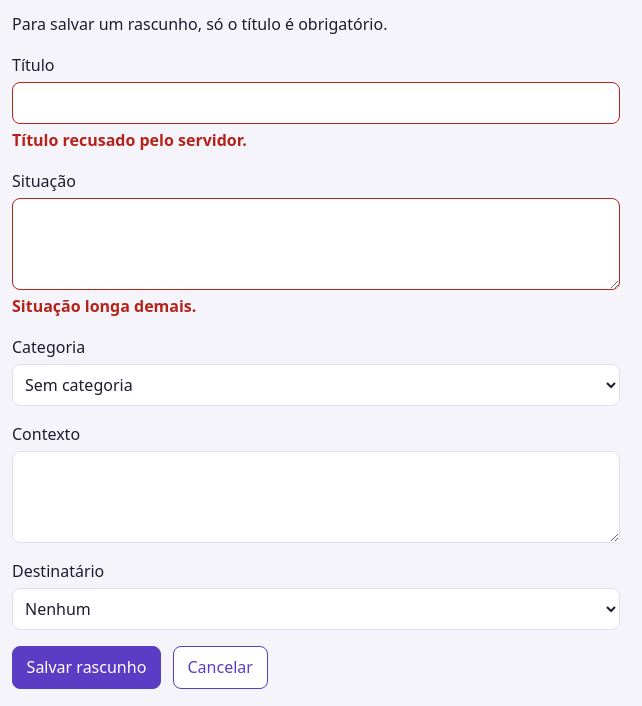
it: o erro do servidor some quando o usuário corrige o campo e os outros continuam
Type "Atraso na reunião" into the field labelled "Título". click: (316, 103)
box: [12,82,620,124]
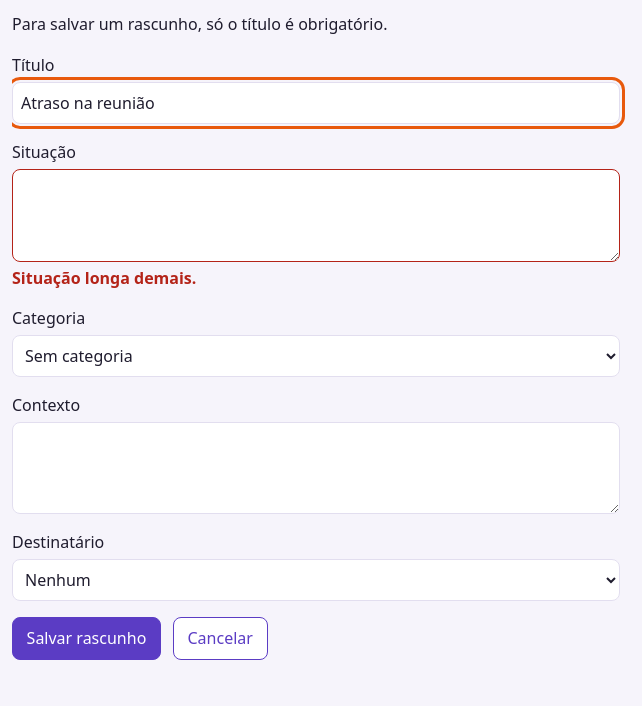
expect the text "Título recusado pelo servidor." is gone: met
